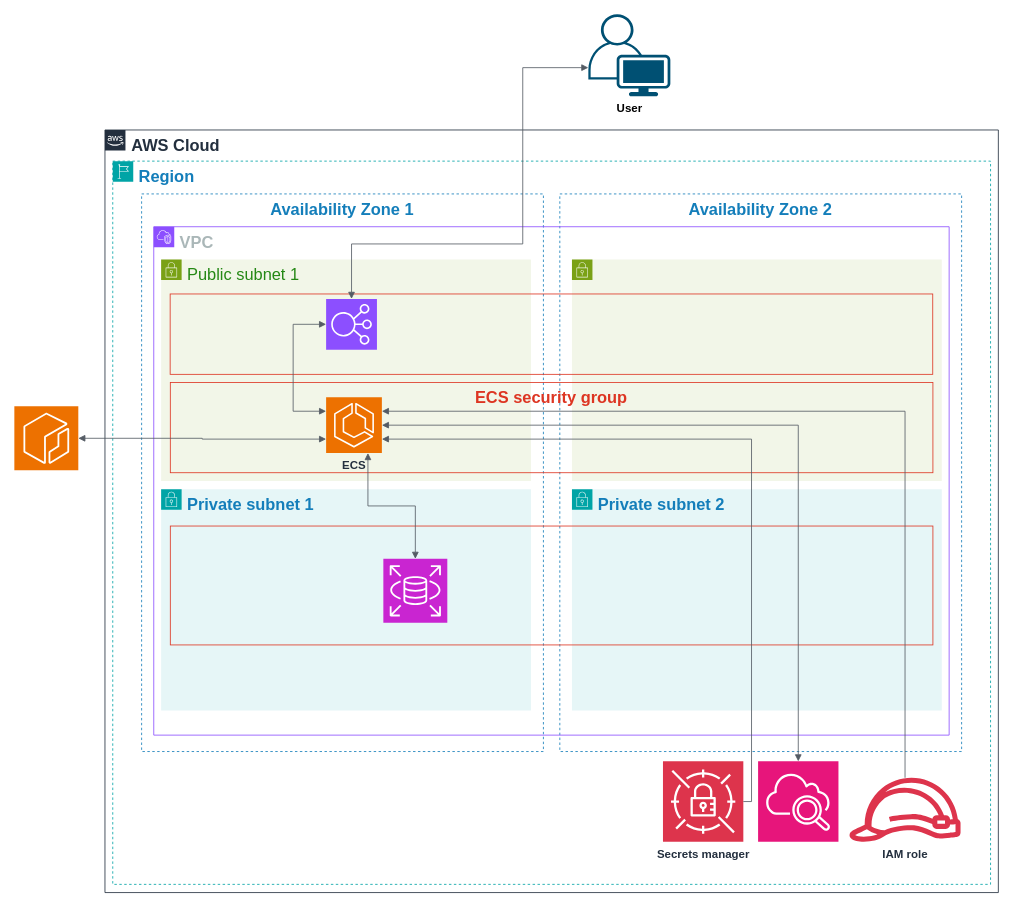
Some shapes in this 1013 by 907 pixel diagram are drawn without their labels. Each missing label, with the box of its shape:
Application load balancer security group: (169, 293, 933, 374)
CloudWatch Logs: (757, 761, 838, 842)
GitHub: (14, 405, 78, 470)
Load balancer: (325, 298, 377, 350)
Public subnet 2: (571, 259, 942, 481)
RDS database security group: (169, 525, 933, 645)
RDS MySQL: (383, 558, 447, 623)
